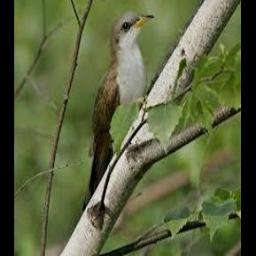Cuckoo: (82, 11, 154, 212)
